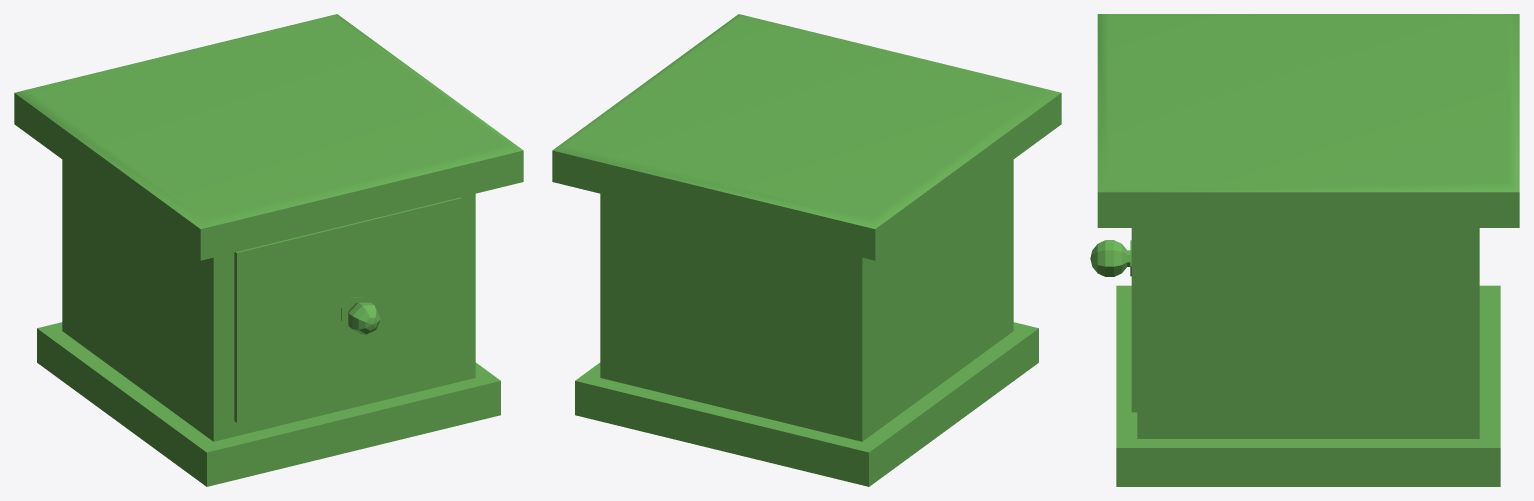
File: BedSideTable.fbx
3 renders of one model, left to right at view 1: azimuth 30°, elevation 25°; view 2: azimuth 150°, elevation 25°; view 3: azimuth 270°, elevation 25°, orthographic. The views are drawn at different scales.
Visible parts, largest first — view 1: polySurface1, pSphere1; view 2: polySurface1; view 3: polySurface1, pSphere1.
Part boxes in pixels (x1,y1,x2,y2): polySurface1: (14, 14, 523, 486); pSphere1: (234, 197, 461, 422); polySurface1: (552, 14, 1061, 486); polySurface1: (1097, 14, 1519, 486); pSphere1: (1090, 228, 1137, 412).
Bounding box in the file's own units: 105 × 84.09 × 106.
